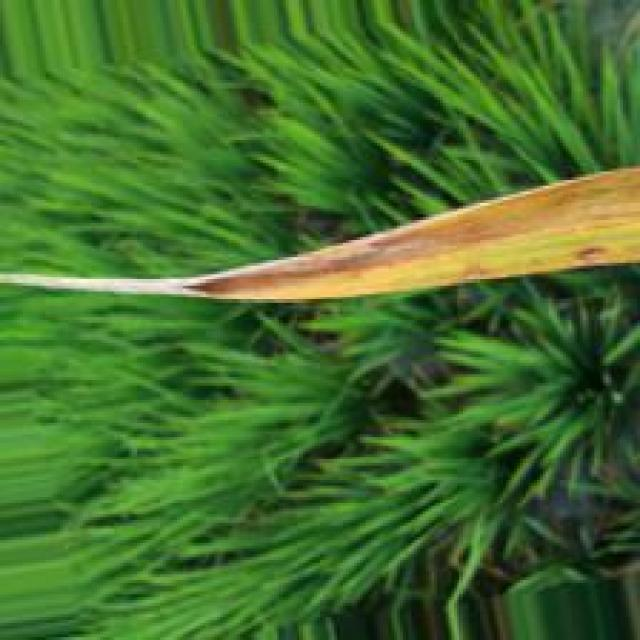Bacterial_Leaf_Blight: (187, 169, 639, 302)
